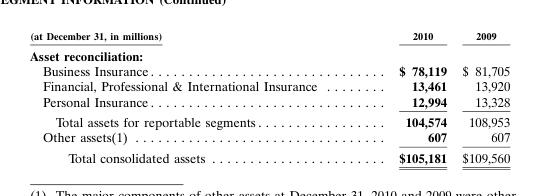table: (29, 29, 509, 164)
table column: (29, 29, 357, 164), (357, 29, 453, 164), (453, 29, 509, 164)
table column header: (29, 29, 509, 44)
table projected row header: (29, 44, 509, 62)
table row: (29, 44, 509, 62), (29, 93, 509, 111), (29, 111, 509, 129), (29, 146, 509, 164), (29, 129, 509, 146), (29, 62, 509, 78), (29, 29, 509, 44), (29, 78, 509, 93)
